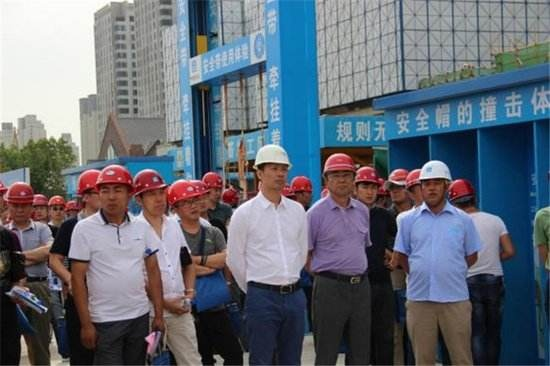red: (129, 166, 169, 218), (95, 163, 132, 218), (320, 151, 358, 199), (166, 177, 200, 222), (5, 181, 33, 225), (352, 163, 380, 206), (76, 168, 101, 214), (447, 177, 477, 214), (384, 166, 409, 206), (201, 169, 225, 204), (289, 174, 314, 206), (29, 191, 49, 224), (47, 194, 65, 222)
white: (253, 144, 290, 194), (417, 158, 452, 207)
